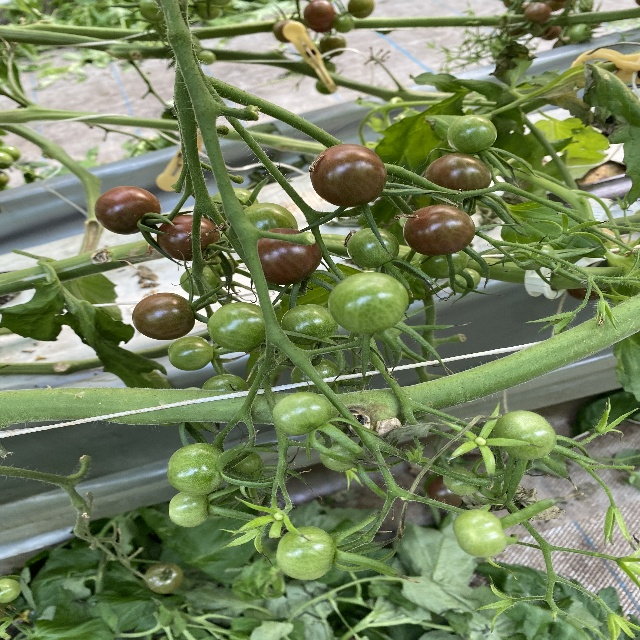l_fully_ripened: (257, 227, 323, 285), (157, 214, 220, 261)
l_green: (327, 271, 409, 334), (491, 410, 557, 461), (276, 526, 335, 580), (167, 442, 226, 495), (206, 302, 267, 352), (451, 509, 508, 558), (272, 391, 333, 436), (281, 305, 339, 346), (346, 227, 400, 268), (447, 114, 496, 155), (290, 358, 344, 394), (168, 336, 214, 371), (211, 189, 260, 221), (243, 202, 298, 230), (418, 250, 469, 278), (169, 491, 208, 527), (179, 266, 220, 297), (513, 241, 555, 271), (320, 441, 357, 471), (442, 467, 481, 495), (228, 453, 263, 482), (200, 374, 252, 392), (450, 268, 481, 293)
l_half_ripened: (309, 143, 386, 207), (403, 204, 477, 256), (94, 185, 161, 235), (131, 293, 196, 340), (422, 152, 493, 190)
